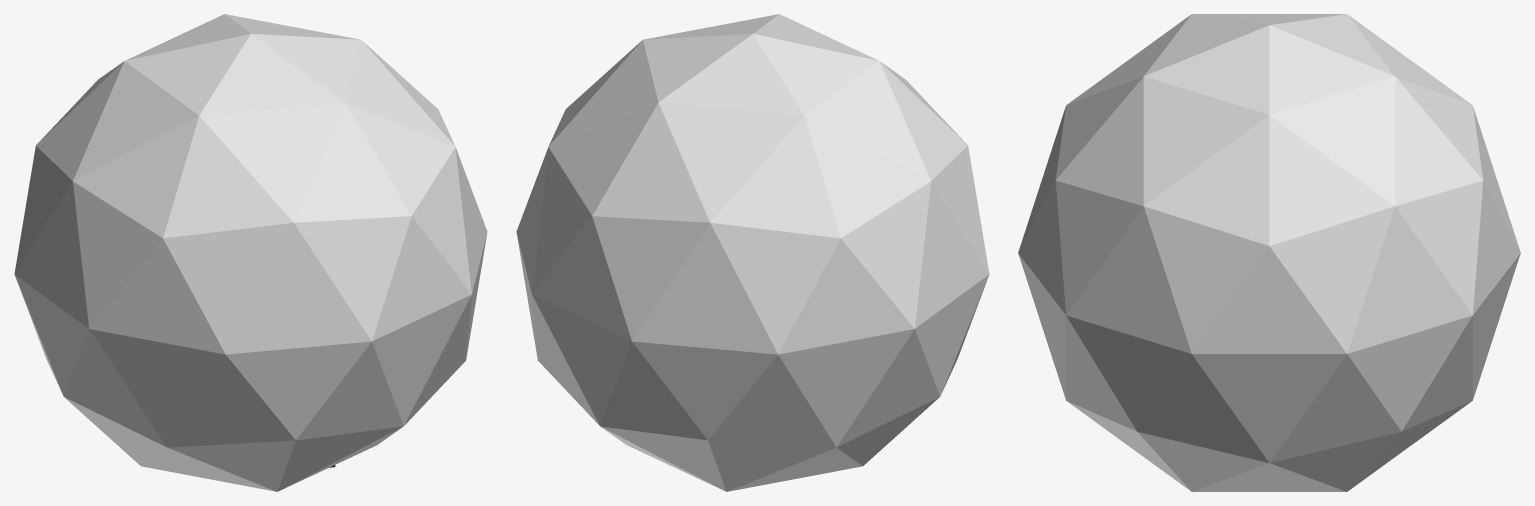
File: hampter.fbx
3 views of the same model, side by side, from view 1: azimuth 30°, elevation 25°; view 2: azimuth 150°, elevation 25°; view 3: azimuth 270°, elevation 25° (orthographic). The views are drawn at different scales.
Parts seen in each view (by area): view 1: ball; view 2: ball; view 3: ball.
Part boxes in pixels (bbox=[...]): ball: bbox=[14, 14, 487, 491]; ball: bbox=[516, 14, 989, 491]; ball: bbox=[1018, 14, 1520, 491].
Size of the model in its own units: 190 by 200 by 200.
5 materials, 5 textured.
